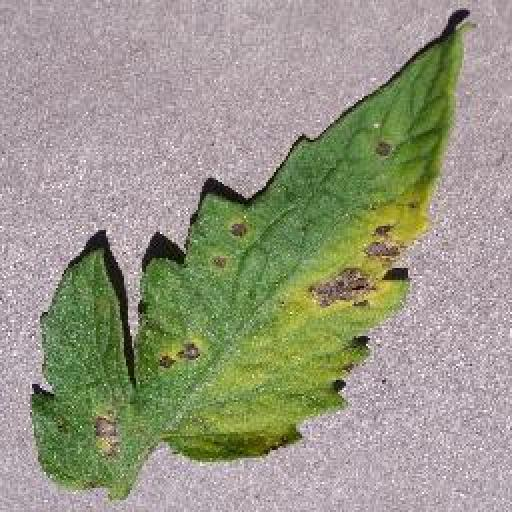Septoria: (30, 27, 465, 485)
